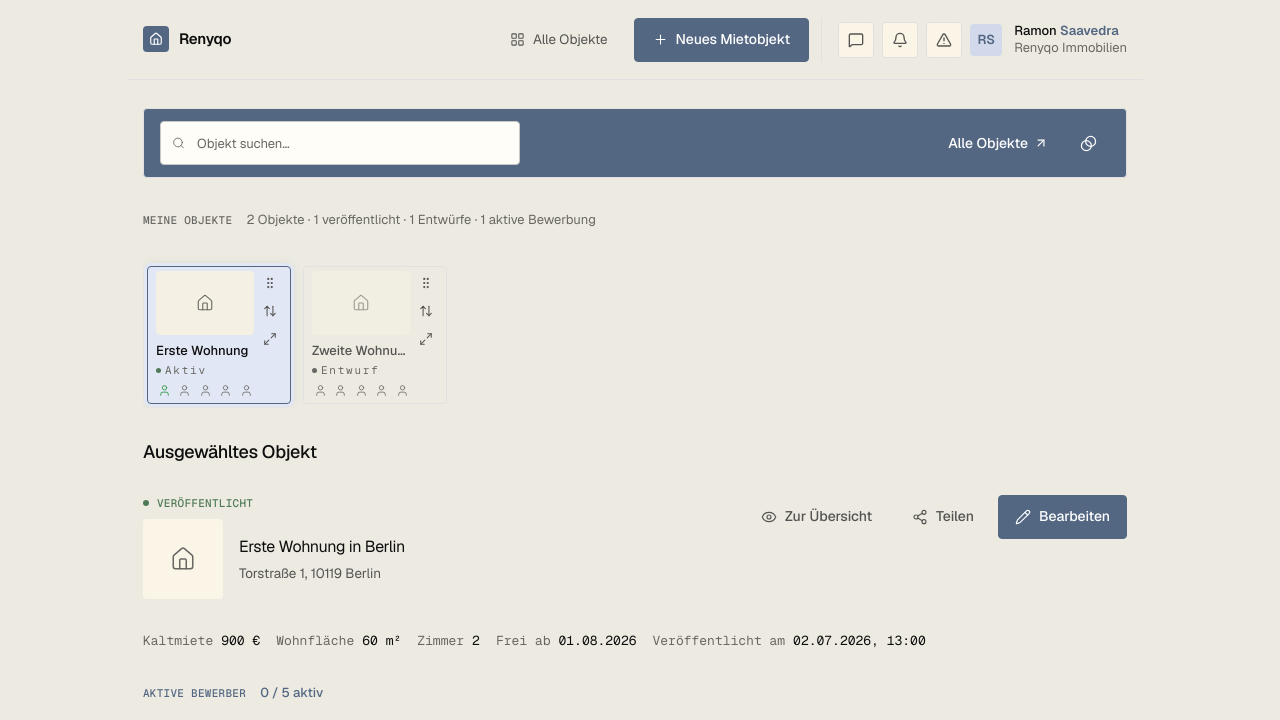
Test case: DashboardView › changes the selected object from the object selector
expect the text "Saavedra" is shown: met, box [1060,23,1119,39]
Click the button named "Zweite Wohnung, Entwurf, 0 von 5 aktiven Bewerbungen — als a". click: (361, 302)
box: [312,270,410,334]
(page scrolled)
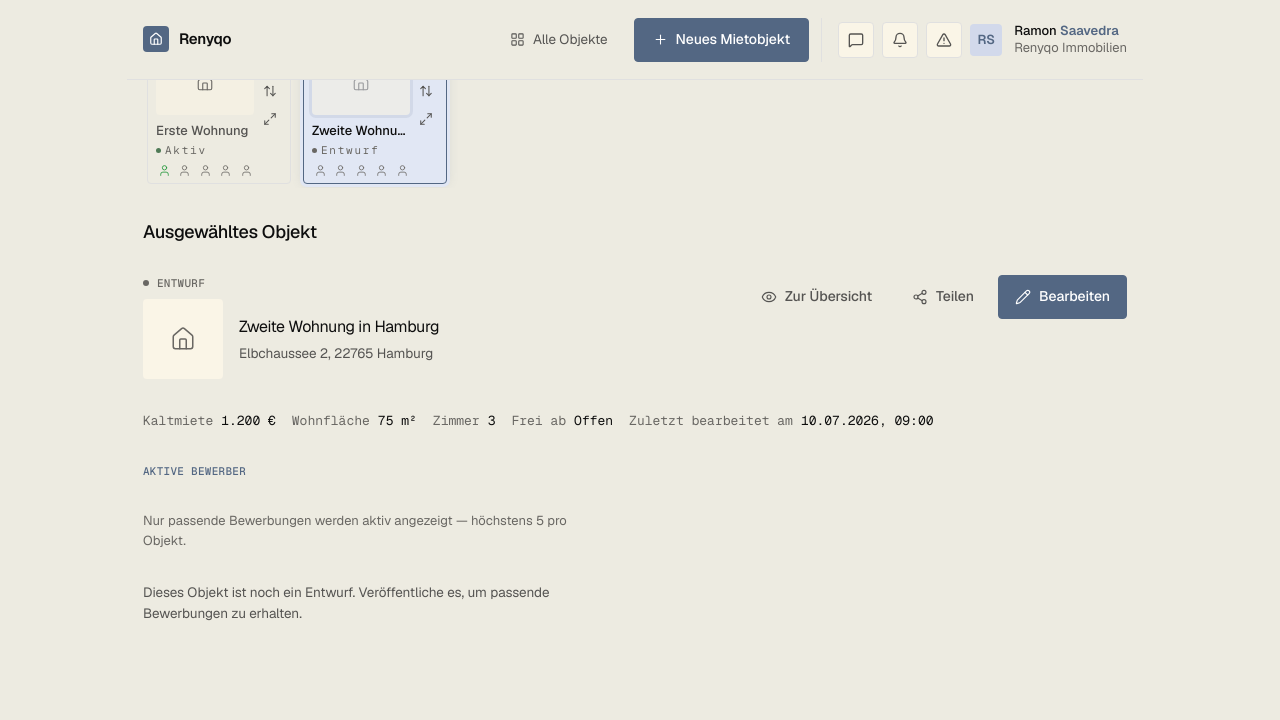
expect the heading "Zweite Wohnung in Hamburg" is shown: met, box [239,315,439,339]
expect the text "Dieses Objekt ist noch ein Entwurf. Veröffentliche es, um passende Bewerbungen zu erhalten." is shown: met, box [143,583,550,622]
